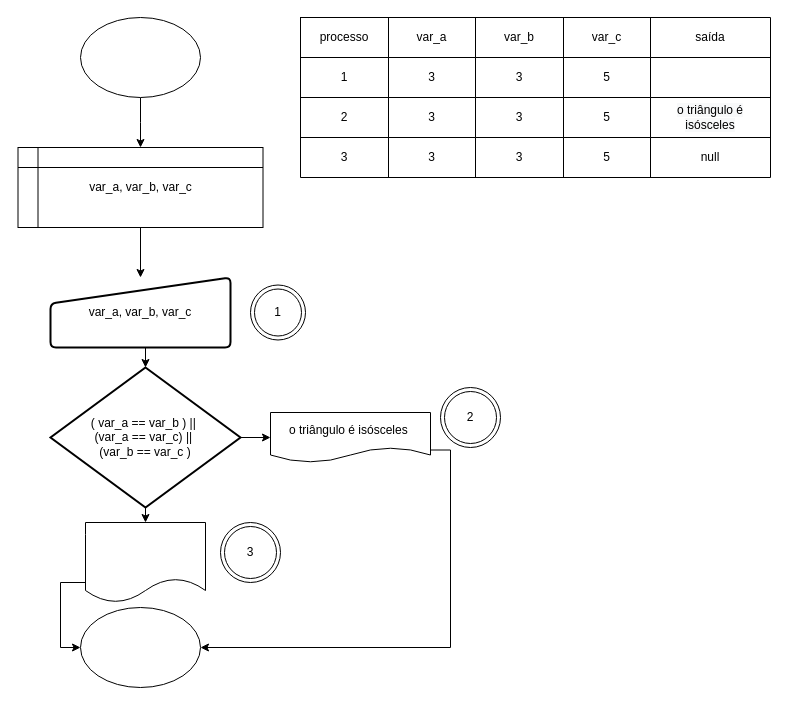
This 788x705 diagram has some shape labels left out. Here are the shapes that lost their labels. From the top down, the centre of each, then its label:
At (140,57): "início".
At (145,562): "o triângulo não é isósceles".
At (140,647): "fim".
